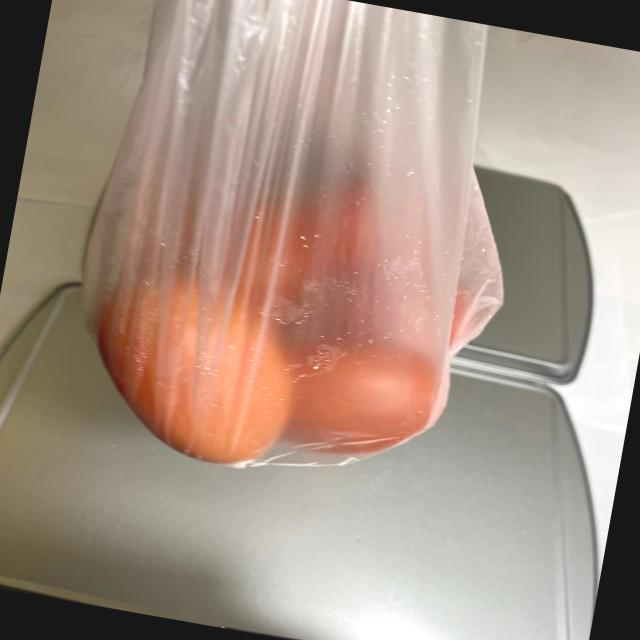tomato: (75, 101, 524, 505)
